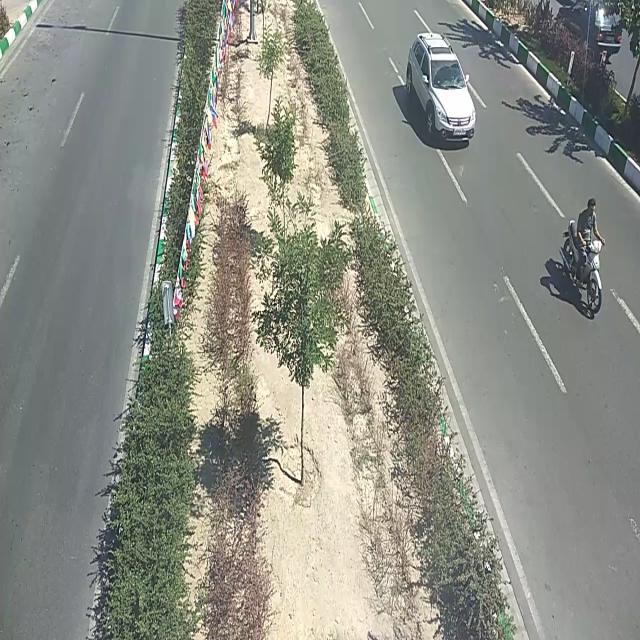car: (405, 33, 475, 150)
motor: (561, 196, 603, 320)
